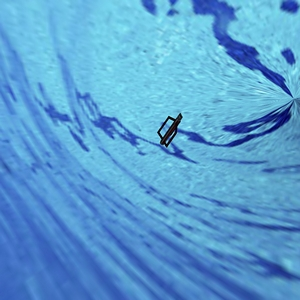submarine: (146, 101, 192, 159)
